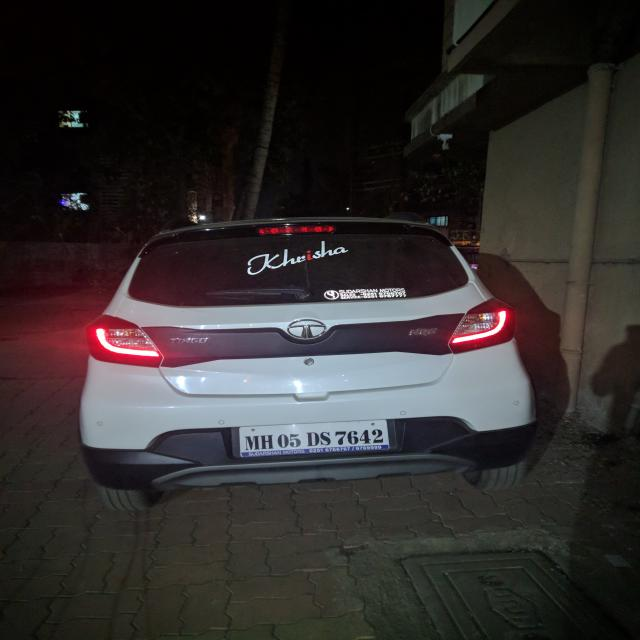Number-Plate: (243, 424, 387, 455)
